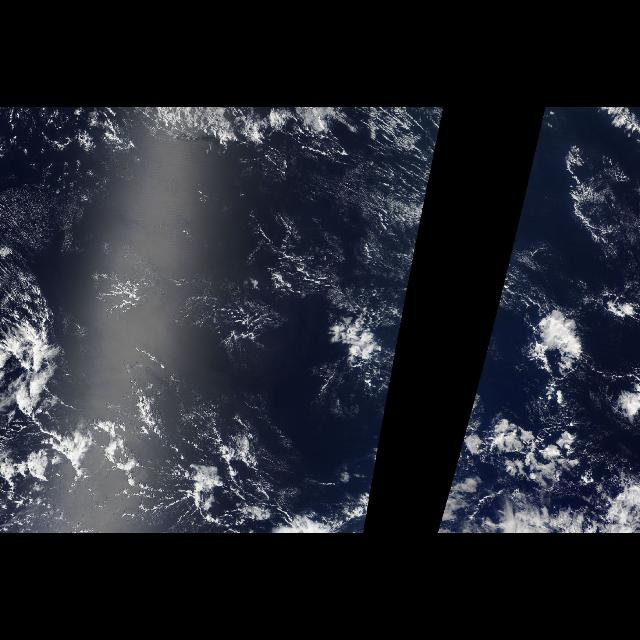Flower: (502, 306, 634, 499)
Sugar: (301, 137, 414, 279), (8, 178, 138, 272)
